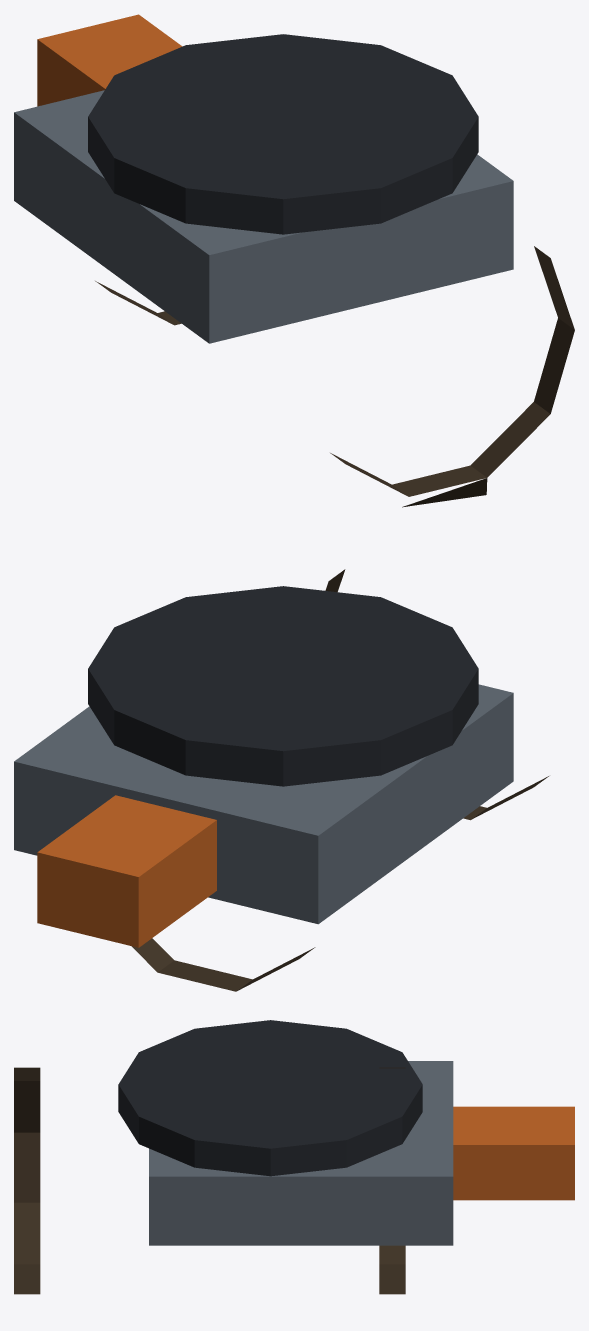
The model's file is medium-shield-generator.lod.glb.
3 views of the same model, one above another, from view 1: azimuth 30°, elevation 25°; view 2: azimuth 150°, elevation 25°; view 3: azimuth 270°, elevation 25° (orthographic). The views are drawn at different scales.
Visible parts, largest first — view 1: m; view 2: m; view 3: m.
Boxes of the visible parts, left/top/right/bottom form: m: left=14, top=14, right=574, bottom=507; m: left=14, top=569, right=548, bottom=991; m: left=14, top=1020, right=574, bottom=1294.
Bounding box in the file's own units: 0.0814 × 0.0639 × 0.15.
